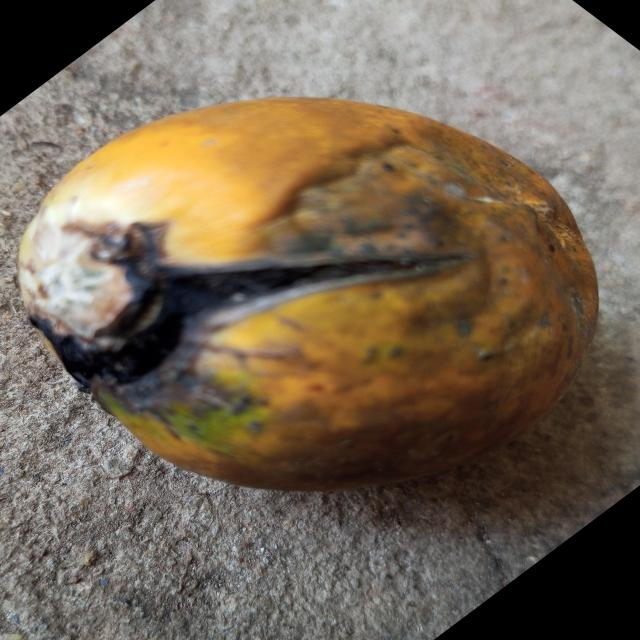damaged: (18, 98, 598, 490)
